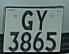3: (8, 30, 21, 54)
5: (45, 30, 58, 53)
6: (32, 31, 45, 52)
8: (19, 31, 33, 52)
G: (19, 10, 35, 32)
Y: (34, 9, 49, 32)
